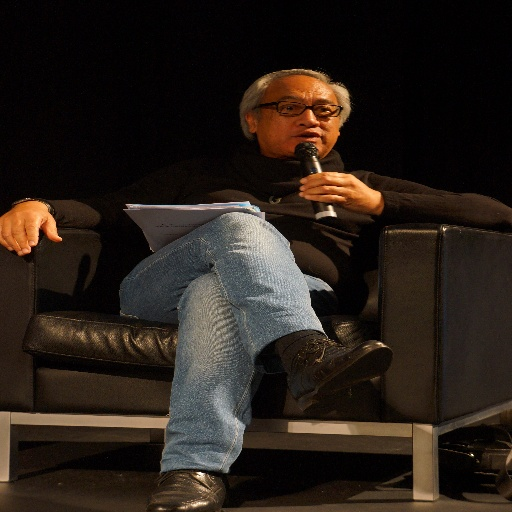hand: (297, 166, 384, 210), (0, 201, 64, 257)
